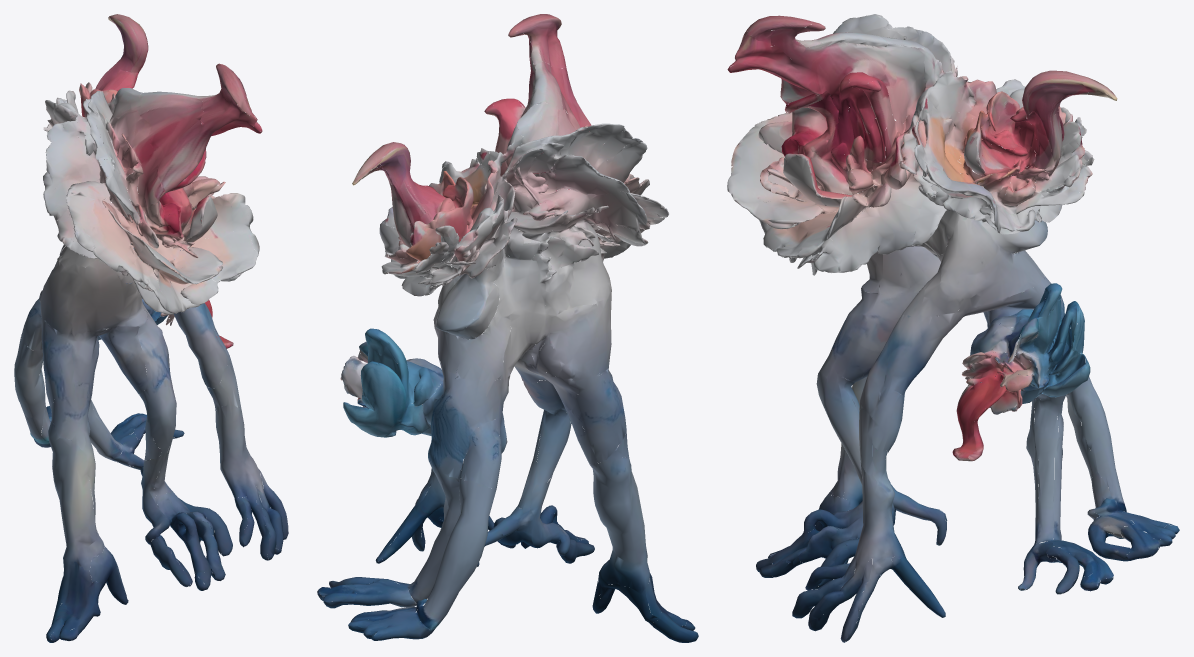
File: ChimeraLOWPOLY.glb
The picture shows the model from 3 angles, left to right: view 1: azimuth 30°, elevation 25°; view 2: azimuth 150°, elevation 25°; view 3: azimuth 270°, elevation 25°; orthographic projection. The views are drawn at different scales.
Visible parts, largest first — view 1: tripo_node_80a40564-380a-4a3b-a6a0-731d65799045; view 2: tripo_node_80a40564-380a-4a3b-a6a0-731d65799045; view 3: tripo_node_80a40564-380a-4a3b-a6a0-731d65799045.
Part boxes in pixels (left/top/right/bottom): tripo_node_80a40564-380a-4a3b-a6a0-731d65799045: left=14, top=14, right=288, bottom=642; tripo_node_80a40564-380a-4a3b-a6a0-731d65799045: left=317, top=14, right=698, bottom=642; tripo_node_80a40564-380a-4a3b-a6a0-731d65799045: left=727, top=14, right=1179, bottom=642.
Size of the model in its own units: 0.4935 by 1 by 0.6619.
Materials: 1 (1 with a texture image).
